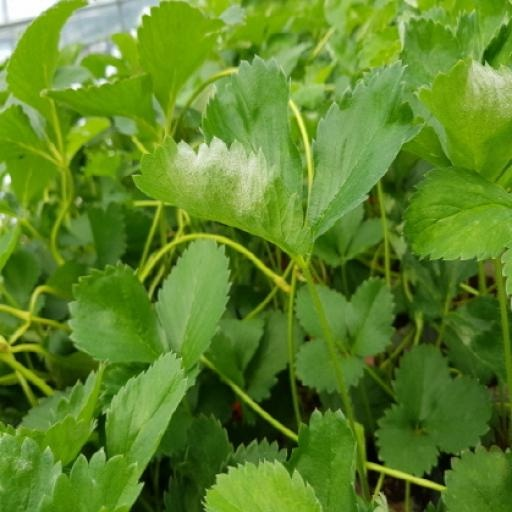Powdery Mildew Leaf: (197, 134, 383, 261), (0, 56, 103, 183), (448, 431, 511, 511)
